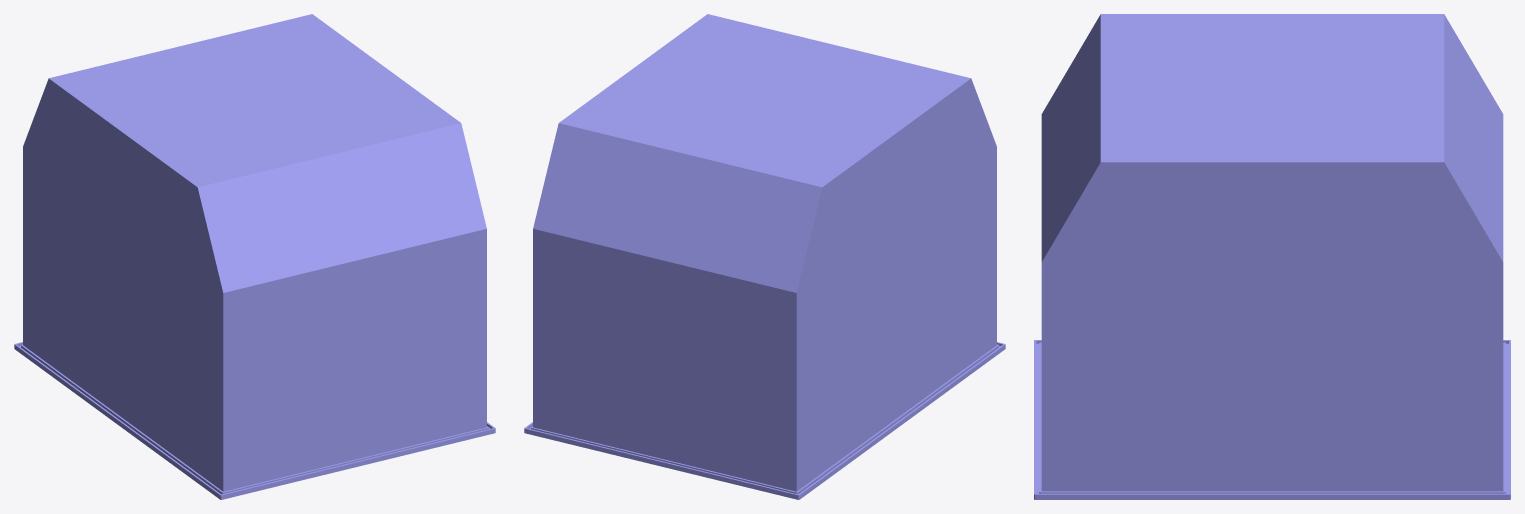
Rendered from PartBody 19.FBX.
3 views of the same model, side by side, from view 1: azimuth 30°, elevation 25°; view 2: azimuth 150°, elevation 25°; view 3: azimuth 270°, elevation 25° (orthographic). The views are drawn at different scales.
Visible parts, largest first — view 1: PartBody; view 2: PartBody; view 3: PartBody.
Boxes of the visible parts, left/top/right/bottom form: PartBody: left=14, top=14, right=495, bottom=499; PartBody: left=524, top=14, right=1005, bottom=499; PartBody: left=1034, top=14, right=1510, bottom=499.
Size of the model in its own units: 244 by 318 by 246.
